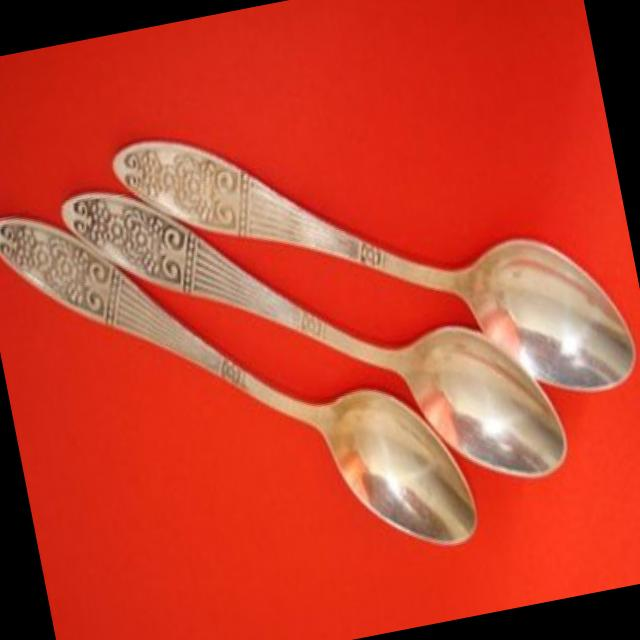spoon: (0, 124, 482, 631)
